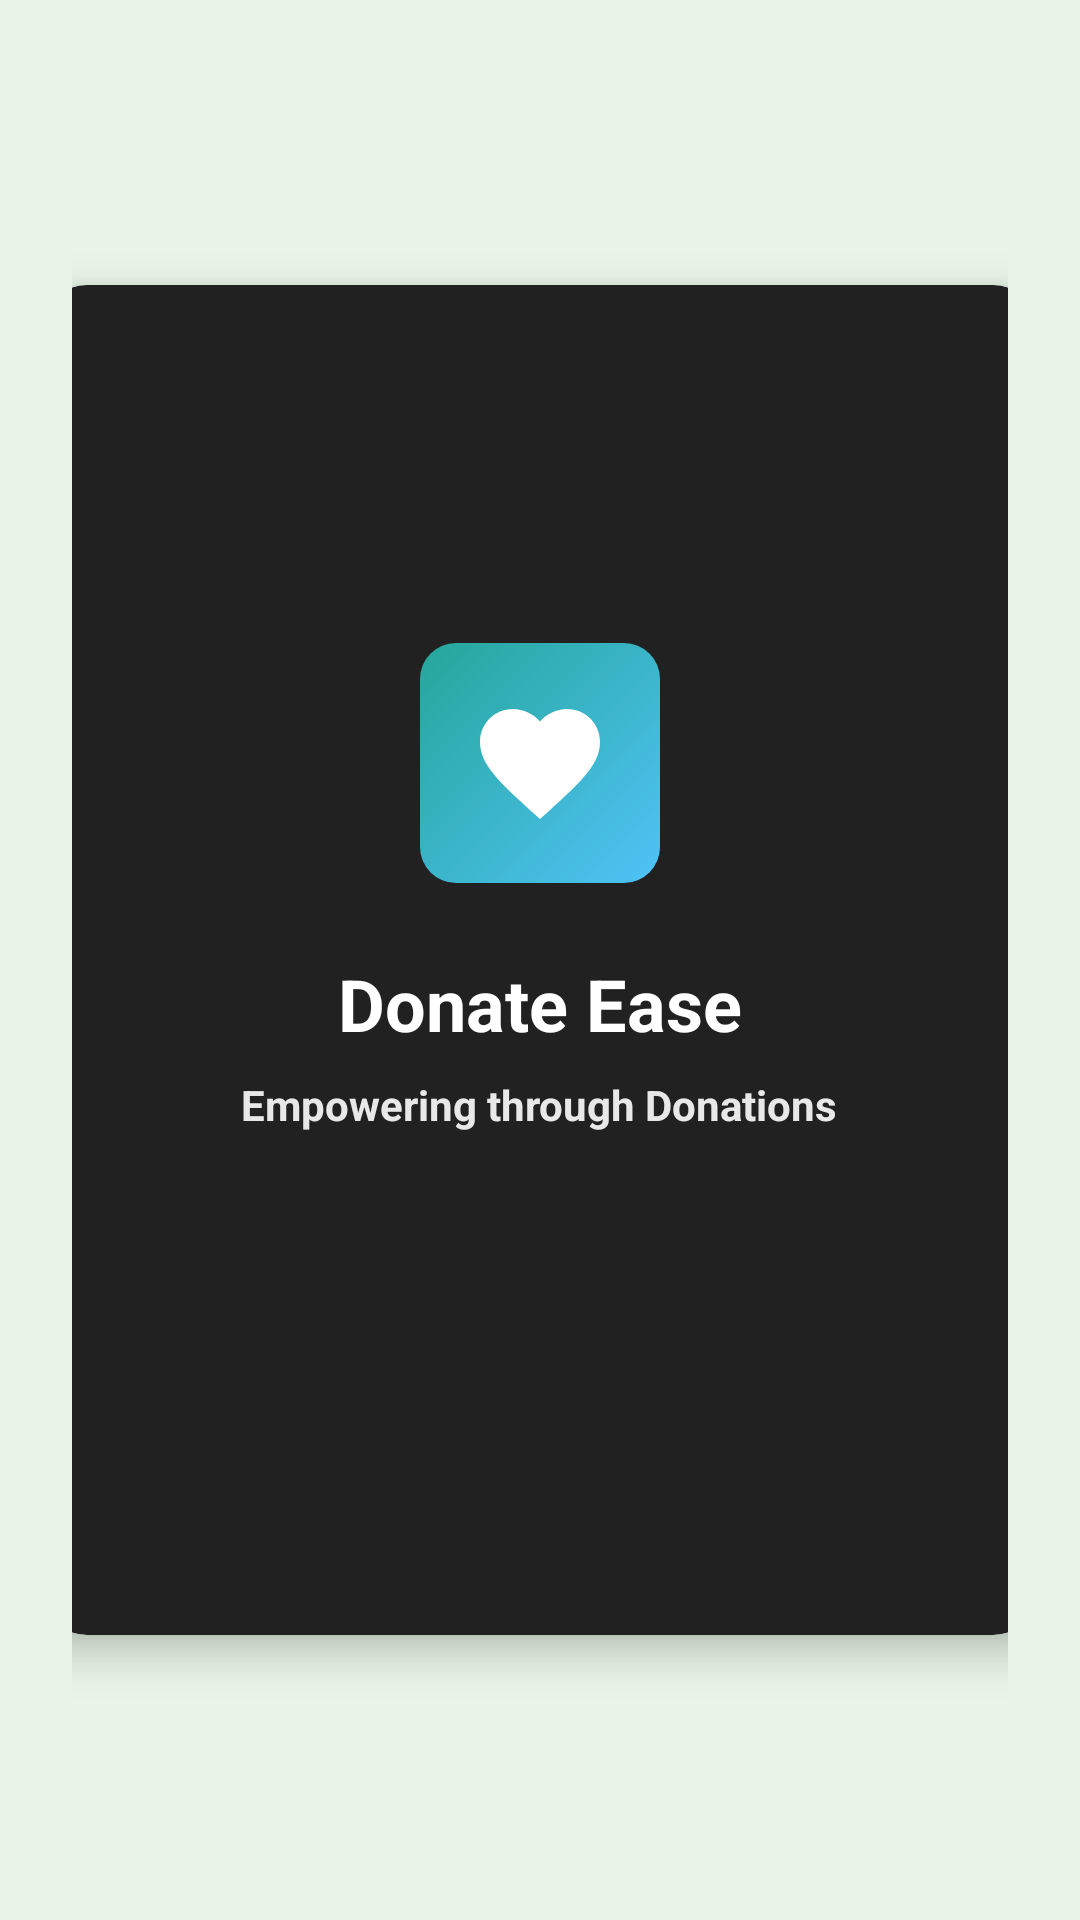

Icons on this 1080w x 1920h Android screen, each with the point to tap as (x=x, y=y):
donate heart: (x=540, y=763)
